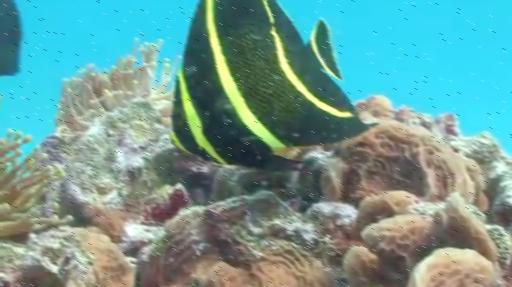Fish: (170, 0, 373, 169), (0, 0, 21, 76)
